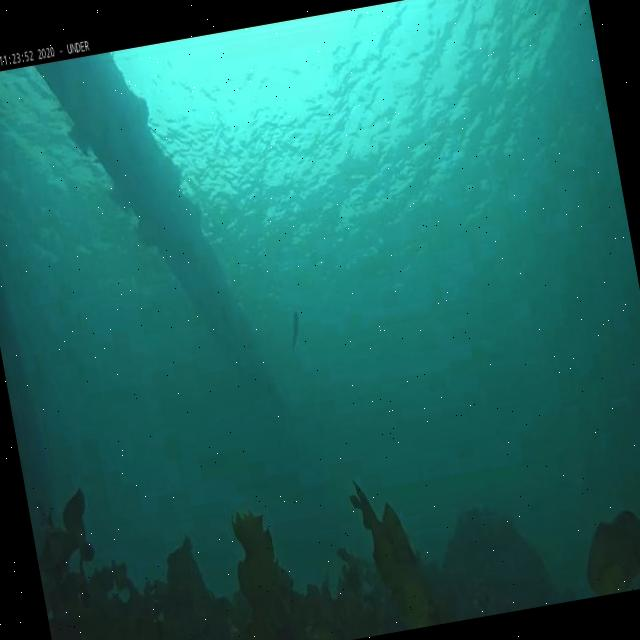fish: (286, 309, 304, 353)
